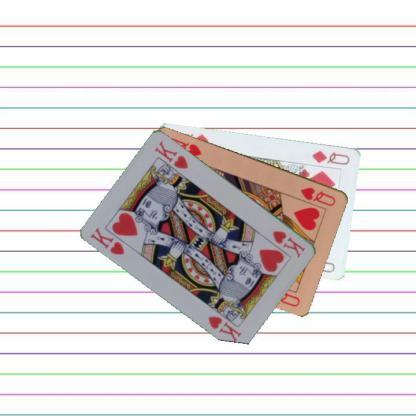Kh: (88, 224, 126, 257), (269, 228, 306, 260)
Qd: (310, 147, 352, 166)
Qh: (298, 184, 338, 208)
